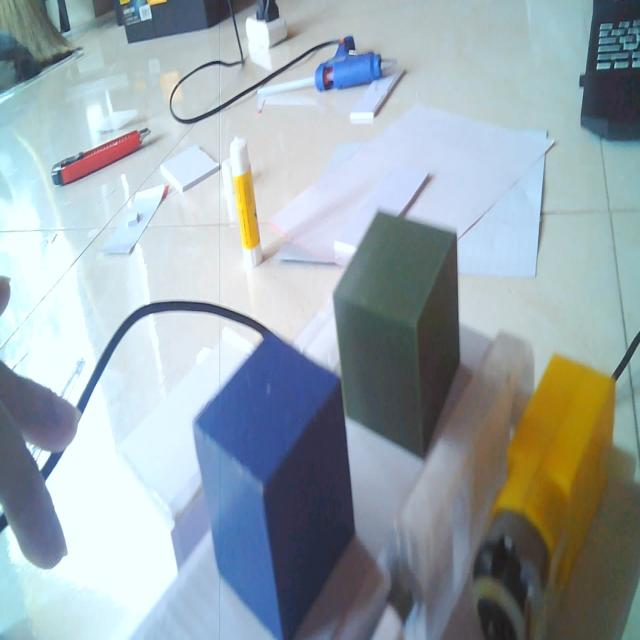blue: (190, 322, 357, 636)
green: (331, 202, 463, 464)
